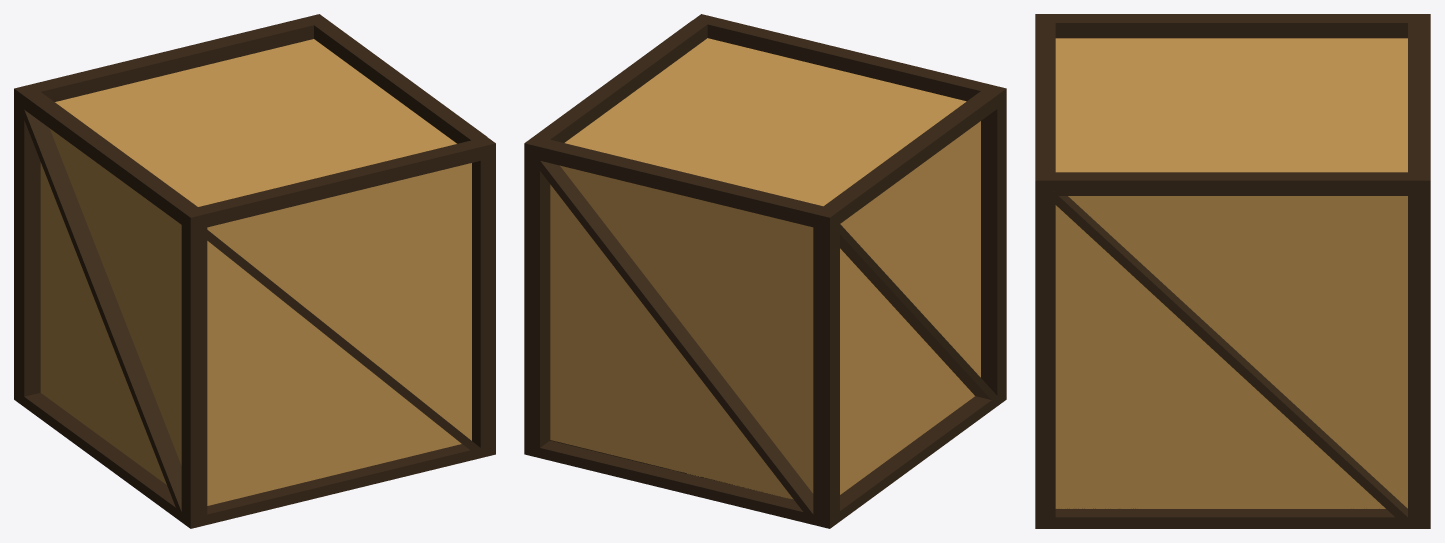
Rendered from caixa.dae.
The picture shows the model from 3 angles, left to right: view 1: azimuth 30°, elevation 25°; view 2: azimuth 150°, elevation 25°; view 3: azimuth 270°, elevation 25°; orthographic projection. The views are drawn at different scales.
Visible parts, largest first — view 1: Cube; view 2: Cube; view 3: Cube.
Part boxes in pixels (x1,y1,x2,y2): Cube: (14,14,495,528); Cube: (524,14,1006,528); Cube: (1035,14,1430,528).
Size of the model in its own units: 2.23 by 2.24 by 2.18.
